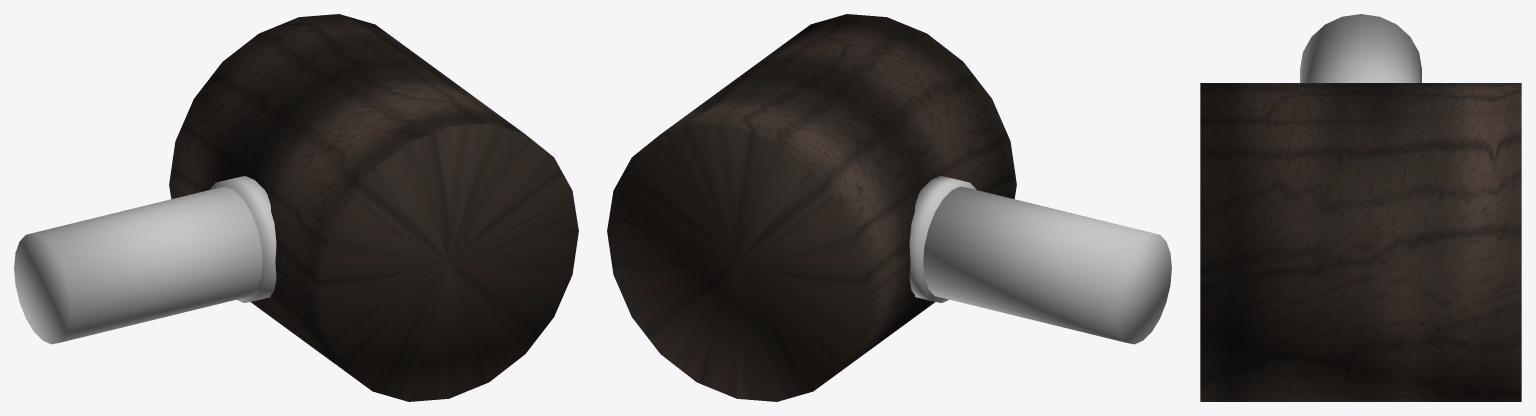
The model's file is slope_3.fbx.
The picture shows the model from 3 angles, left to right: view 1: azimuth 30°, elevation 25°; view 2: azimuth 150°, elevation 25°; view 3: azimuth 270°, elevation 25°; orthographic projection. The views are drawn at different scales.
Parts seen in each view (by area): view 1: obj1_002, obj2, obj3; view 2: obj1_002, obj2, obj3; view 3: obj1_002, obj2.
Part boxes in pixels (x1=…): obj1_002: x1=169, y1=14, x2=578, y2=401; obj2: x1=14, y1=186, x2=262, y2=344; obj3: x1=209, y1=176, x2=276, y2=302; obj1_002: x1=607, y1=14, x2=1016, y2=401; obj2: x1=923, y1=186, x2=1171, y2=344; obj3: x1=909, y1=176, x2=976, y2=302; obj1_002: x1=1200, y1=83, x2=1521, y2=401; obj2: x1=1300, y1=14, x2=1421, y2=82.
Bounding box in the file's own units: 3.55 × 2 × 2.
Materials: 2 (1 with a texture image).
